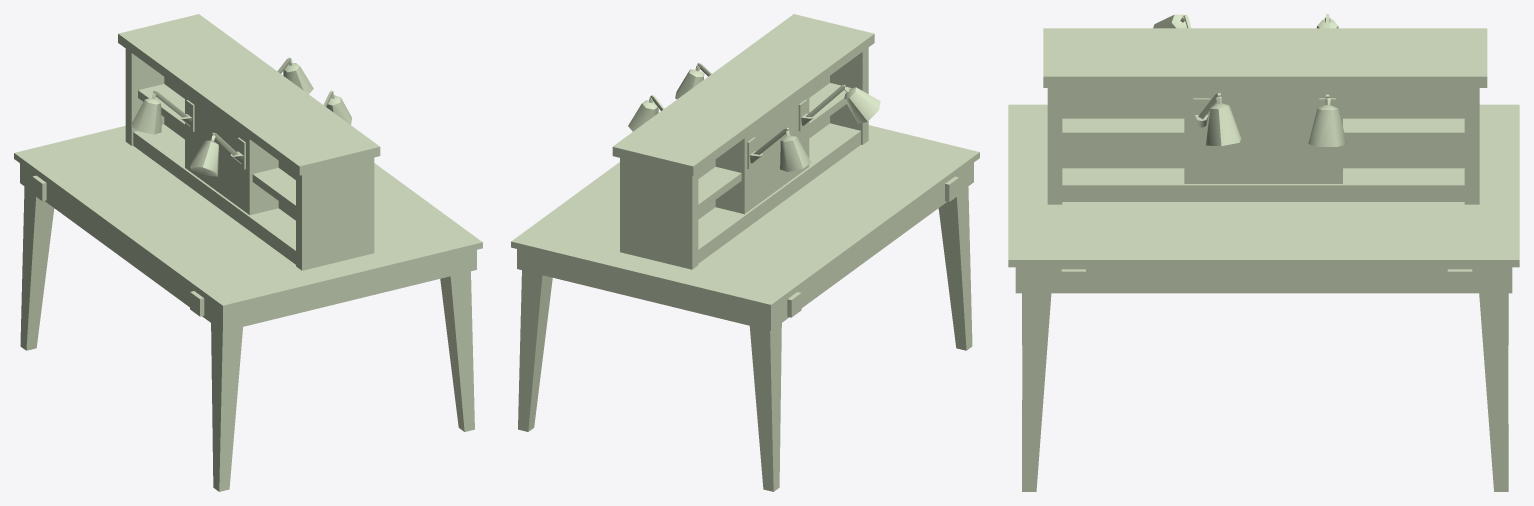
Rendered from tablereading1.fbx.
The picture shows the model from 3 angles, left to right: view 1: azimuth 30°, elevation 25°; view 2: azimuth 150°, elevation 25°; view 3: azimuth 270°, elevation 25°; orthographic projection. The views are drawn at different scales.
Visible parts, largest first — view 1: mex_biblio_reading_table; view 2: mex_biblio_reading_table; view 3: mex_biblio_reading_table.
Boxes of the visible parts, box(x1,y1,x2,y2) form: mex_biblio_reading_table: box(14, 14, 482, 491); mex_biblio_reading_table: box(511, 14, 979, 491); mex_biblio_reading_table: box(1008, 14, 1519, 491).
Size of the model in its own units: 136 by 148 by 188.
